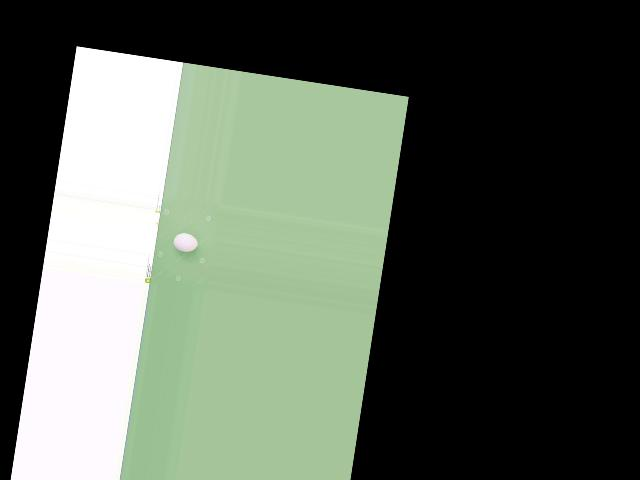egg: (172, 231, 198, 253)
